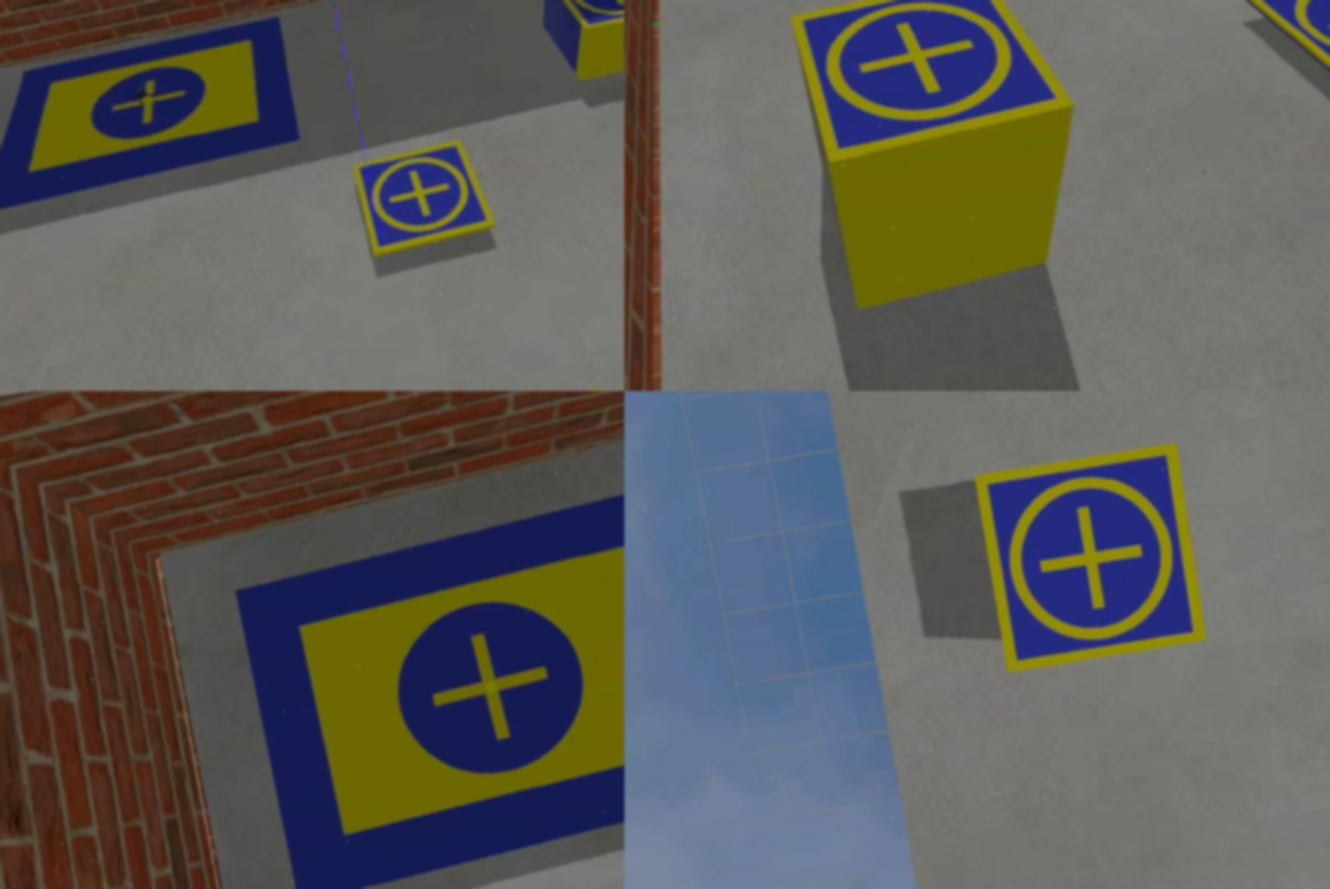large_base: (229, 476, 624, 889), (1, 17, 307, 213)
small_base: (970, 441, 1211, 675), (789, 1, 1078, 169), (350, 137, 498, 262), (1242, 1, 1330, 105), (542, 1, 624, 38)
